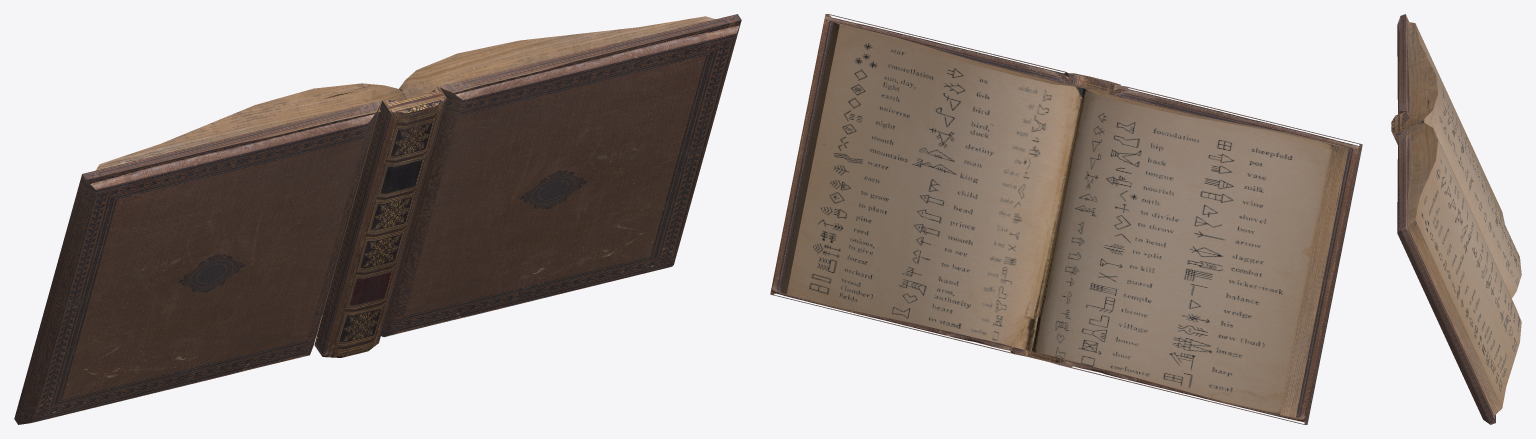
File: Book_Open.fbx
3 views of the same model, side by side, from view 1: azimuth 30°, elevation 25°; view 2: azimuth 150°, elevation 25°; view 3: azimuth 270°, elevation 25° (orthographic). The views are drawn at different scales.
Visible parts, largest first — view 1: Book_Open; view 2: Book_Open; view 3: Book_Open.
Boxes of the visible parts, left/top/right/bottom form: Book_Open: left=14, top=14, right=741, bottom=424; Book_Open: left=770, top=14, right=1362, bottom=424; Book_Open: left=1391, top=14, right=1521, bottom=424.
Size of the model in its own units: 0.5476 by 0.2458 by 0.1418.
